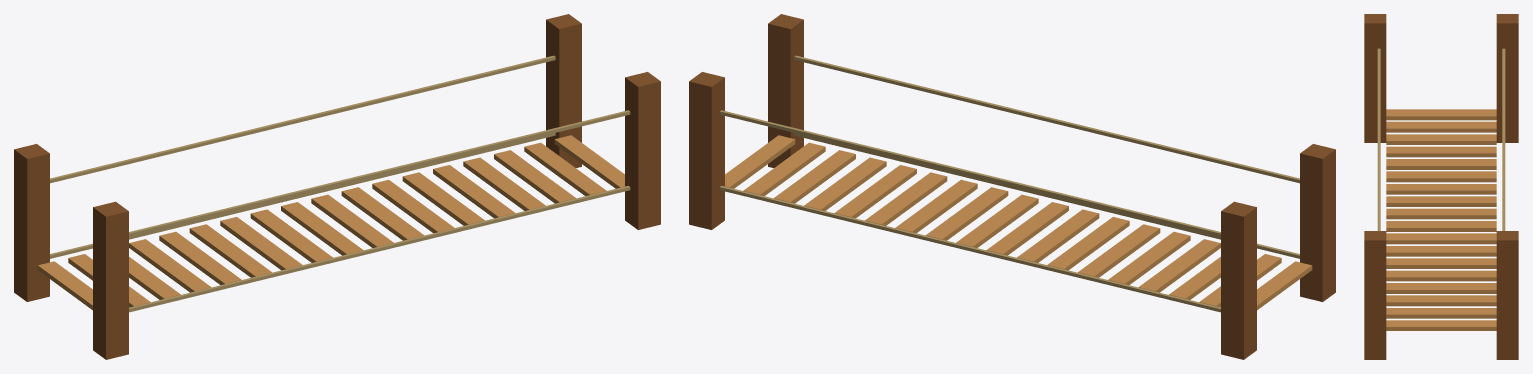
Rendered from town_rope_bridge.glb.
3 views of the same model, side by side, from view 1: azimuth 30°, elevation 25°; view 2: azimuth 150°, elevation 25°; view 3: azimuth 270°, elevation 25° (orthographic). The views are drawn at different scales.
Visible parts, largest first — view 1: rope_bridge; view 2: rope_bridge; view 3: rope_bridge.
Part boxes in pixels (box(x1,y1,x2,y2)): rope_bridge: box(14, 14, 660, 359); rope_bridge: box(689, 14, 1335, 359); rope_bridge: box(1364, 14, 1518, 359).
Bounding box in the file's own units: 7.3 × 1.8 × 2.1.
